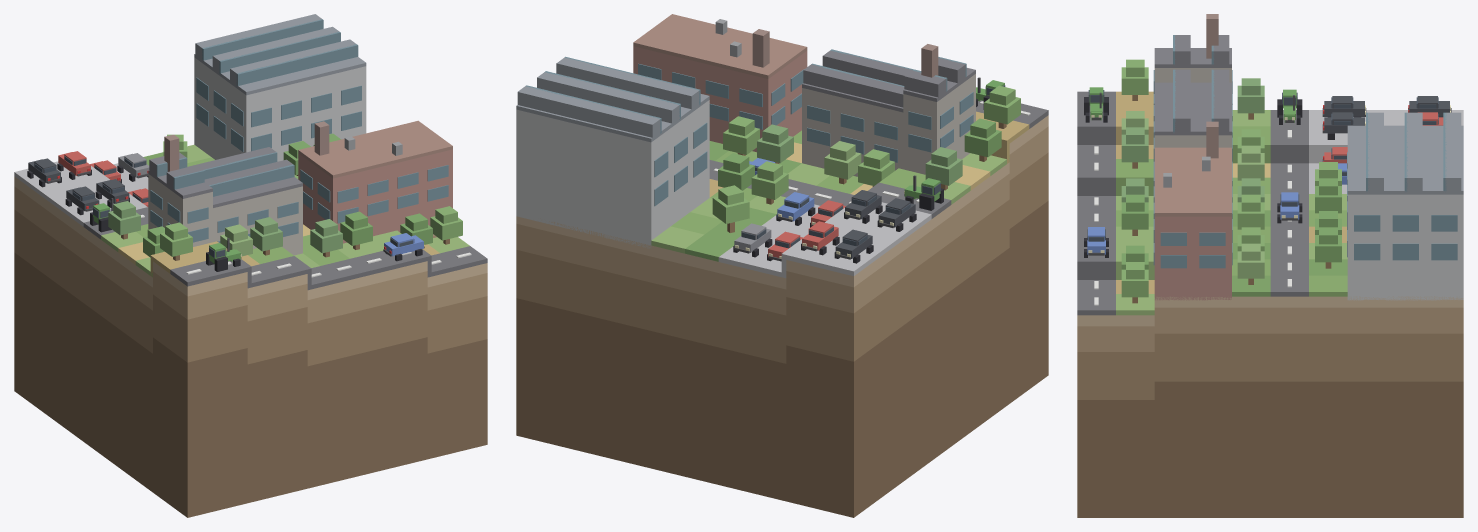
File: block_13_riparian_0.glb
3 renders of one model, left to right at view 1: azimuth 30°, elevation 25°; view 2: azimuth 150°, elevation 25°; view 3: azimuth 270°, elevation 25°, orthographic. The views are drawn at different scales.
Parts seen in each view (by area): view 1: Patch_LowerLeft_b13_RP, Factories_LowerLeft_b13_RP, Roads_LowerLeft_b13_RP, Ground_LowerLeft_b13_RP, Parking_LowerLeft_b13_RP, Asset_Tree_Round.111_RP, Asset_Tree_Round.114_RP, Asset_Tree_Round.093_RP, Asset_Tree_Round.117_RP, Asset_Tree_Round.115_RP, Asset_Tree_Round.113_RP, Asset_Car.007_RP (+8 smaller); view 2: Patch_LowerLeft_b13_RP, Factories_LowerLeft_b13_RP, Ground_LowerLeft_b13_RP, Parking_LowerLeft_b13_RP, Roads_LowerLeft_b13_RP, Asset_Tree_Round.019_RP, Asset_Tree_Round.086_RP, Asset_Tree_Round.105_RP, Asset_Tree_Round.111_RP, Asset_Tree_Round.095_RP, Asset_Tree_Round.096_RP, Asset_Tree_Round.093_RP (+10 smaller); view 3: Patch_LowerLeft_b13_RP, Factories_LowerLeft_b13_RP, Roads_LowerLeft_b13_RP, Ground_LowerLeft_b13_RP, Parking_LowerLeft_b13_RP, Asset_Tree_Round.093_RP, Asset_Tree_Round.099_RP, Asset_Tree_Round.113_RP, Asset_Tree_Round.117_RP, Asset_Tree_Round.111_RP, Asset_Tree_Round.115_RP, Asset_Tree_Round.089_RP (+19 smaller).
Boxes of the visible parts, x1,y1,x2,y2 form: Patch_LowerLeft_b13_RP: (14, 176, 487, 517); Factories_LowerLeft_b13_RP: (148, 14, 452, 255); Roads_LowerLeft_b13_RP: (83, 207, 487, 290); Ground_LowerLeft_b13_RP: (101, 144, 469, 277); Parking_LowerLeft_b13_RP: (14, 161, 148, 226); Asset_Tree_Round.111_RP: (160, 222, 192, 260); Asset_Tree_Round.114_RP: (310, 219, 342, 257); Asset_Tree_Round.093_RP: (108, 201, 140, 239); Asset_Tree_Round.117_RP: (430, 206, 462, 244); Asset_Tree_Round.115_RP: (340, 211, 372, 249); Asset_Tree_Round.113_RP: (250, 217, 282, 255); Asset_Car.007_RP: (383, 233, 424, 261); Patch_LowerLeft_b13_RP: (516, 115, 1048, 517); Factories_LowerLeft_b13_RP: (516, 14, 975, 248); Ground_LowerLeft_b13_RP: (651, 111, 1029, 261); Parking_LowerLeft_b13_RP: (718, 202, 931, 278); Roads_LowerLeft_b13_RP: (709, 100, 1048, 218); Asset_Tree_Round.019_RP: (712, 185, 749, 232); Asset_Tree_Round.086_RP: (751, 161, 788, 204); Asset_Tree_Round.105_RP: (964, 118, 1001, 161); Asset_Tree_Round.111_RP: (984, 85, 1020, 128); Asset_Tree_Round.095_RP: (824, 141, 861, 184); Asset_Tree_Round.096_RP: (757, 124, 793, 163); Asset_Tree_Round.093_RP: (925, 147, 962, 190); Patch_LowerLeft_b13_RP: (1077, 296, 1463, 517); Factories_LowerLeft_b13_RP: (1153, 14, 1463, 300); Roads_LowerLeft_b13_RP: (1077, 91, 1308, 315); Ground_LowerLeft_b13_RP: (1116, 91, 1347, 315); Parking_LowerLeft_b13_RP: (1309, 110, 1463, 193); Asset_Tree_Round.093_RP: (1237, 78, 1264, 119); Asset_Tree_Round.099_RP: (1237, 243, 1264, 284); Asset_Tree_Round.113_RP: (1121, 127, 1148, 168); Asset_Tree_Round.117_RP: (1121, 262, 1148, 303); Asset_Tree_Round.111_RP: (1121, 59, 1148, 100); Asset_Tree_Round.115_RP: (1121, 194, 1148, 235); Asset_Tree_Round.089_RP: (1315, 227, 1341, 268).
Bounding box in the file's own units: 9.52 × 9.83 × 9.5.
